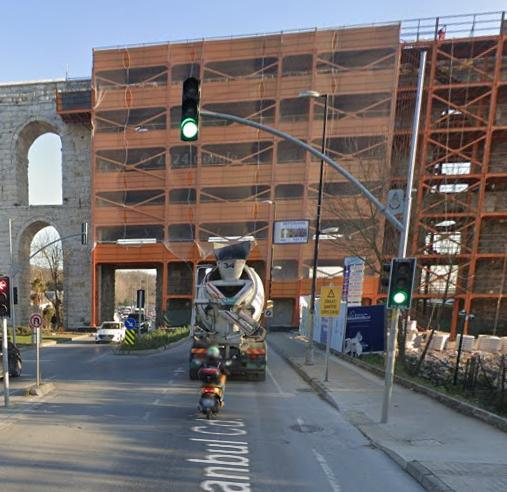greenlight: (179, 77, 199, 142), (390, 255, 414, 308)
redlight: (1, 274, 14, 318)
